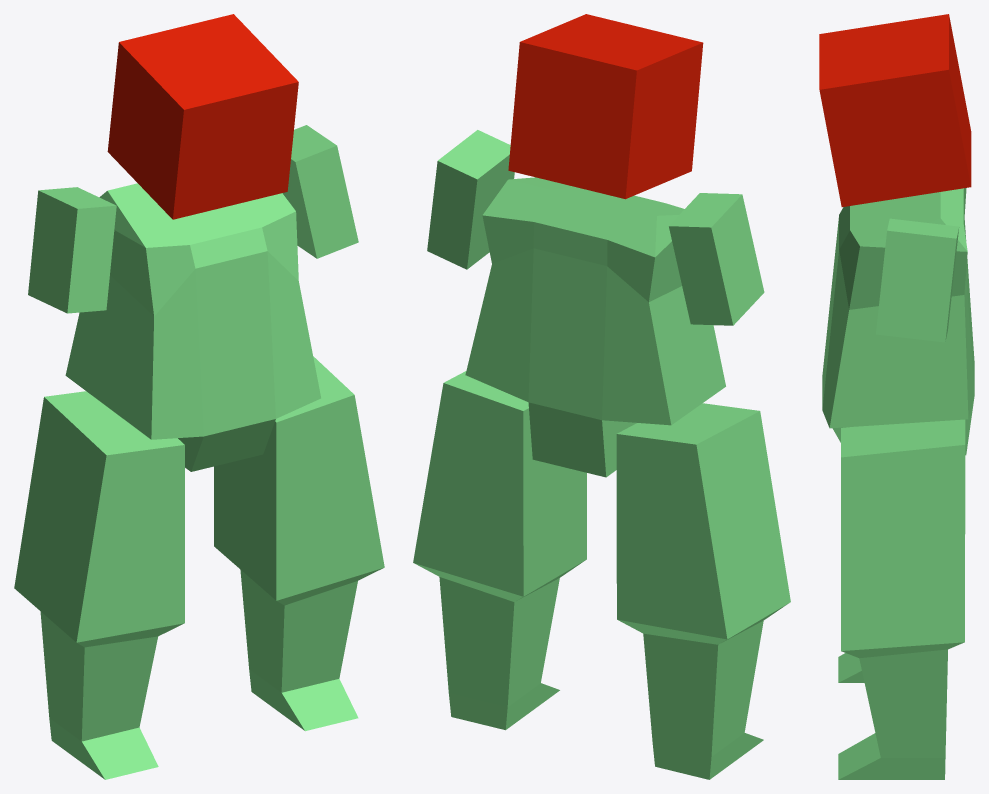
Rendered from Enemy.fbx.
3 views of the same model, side by side, from view 1: azimuth 30°, elevation 25°; view 2: azimuth 150°, elevation 25°; view 3: azimuth 270°, elevation 25° (orthographic). The views are drawn at different scales.
Parts seen in each view (by area): view 1: Cube; view 2: Cube; view 3: Cube.
Boxes of the visible parts, x1,y1,x2,y2 form: Cube: [14, 14, 384, 779]; Cube: [413, 14, 790, 779]; Cube: [819, 14, 974, 779].
Bounding box in the file's own units: 578 × 1219 × 253.
